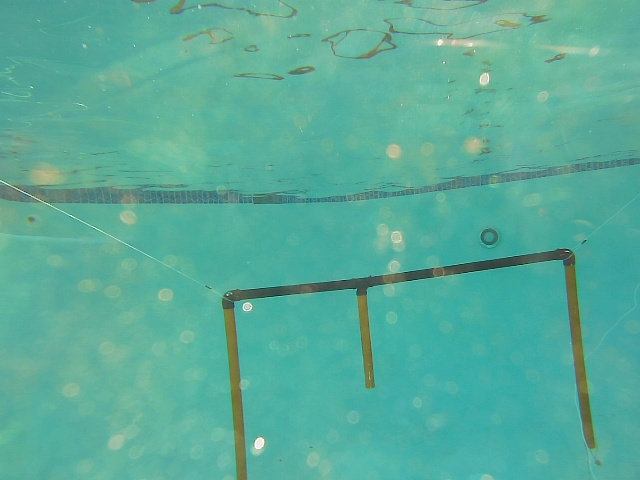Gate: (561, 258, 603, 456), (212, 302, 251, 480), (353, 289, 381, 390)
